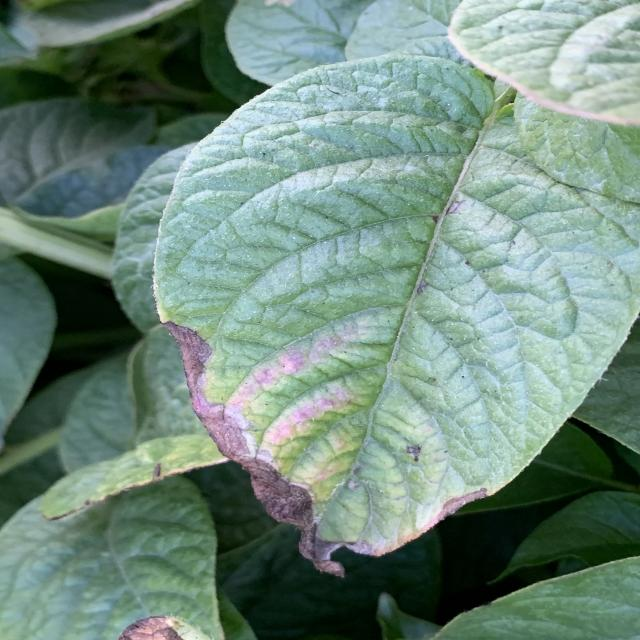lateblight: (163, 321, 343, 575), (308, 482, 488, 575)
